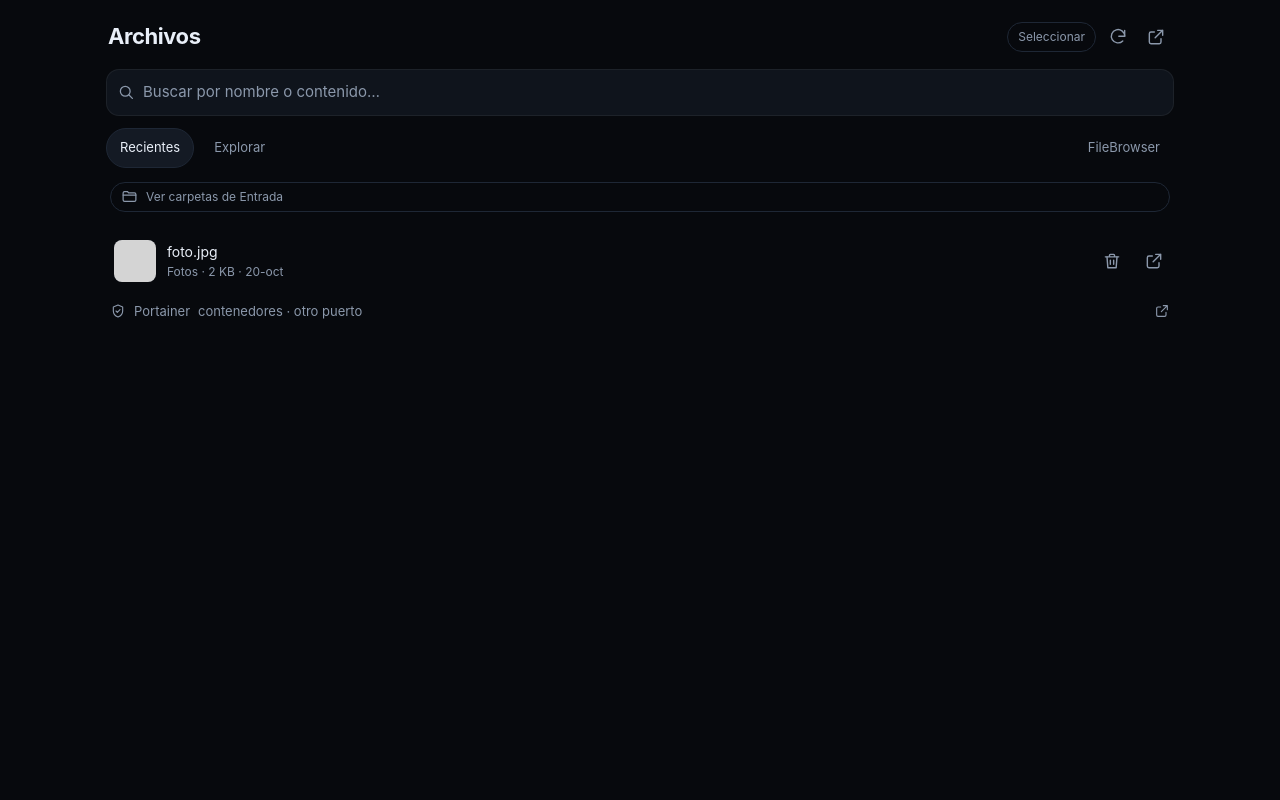
Test: Files · panel NAS nativo › borra desde el visor y lo cierra
Expected: the text "foto.jpg" is shown, [167,242,218,260]
Click the button "foto.jpg Fotos · 2 KB · 20-oct": (135, 260) [106,234,1090,288]
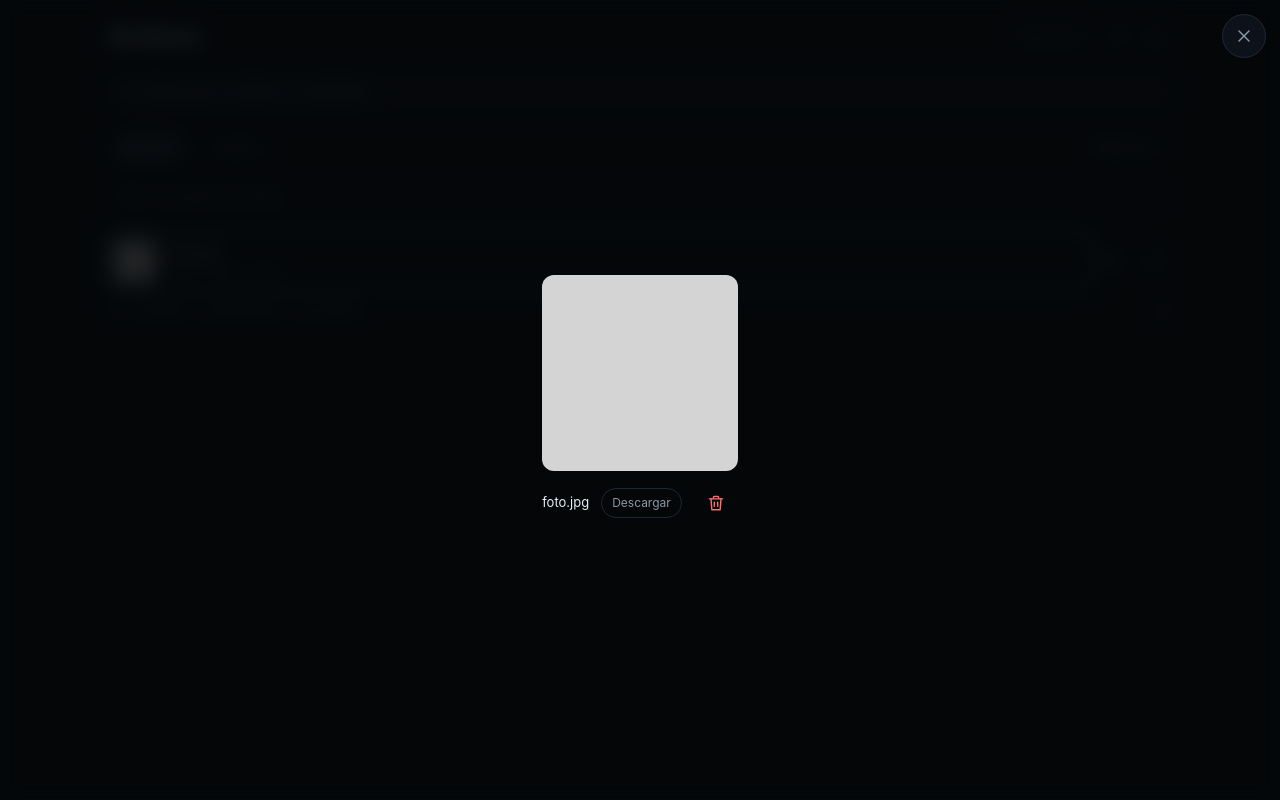
Click the button named "Borrar foto.jpg": (716, 503) [694,481,738,525]
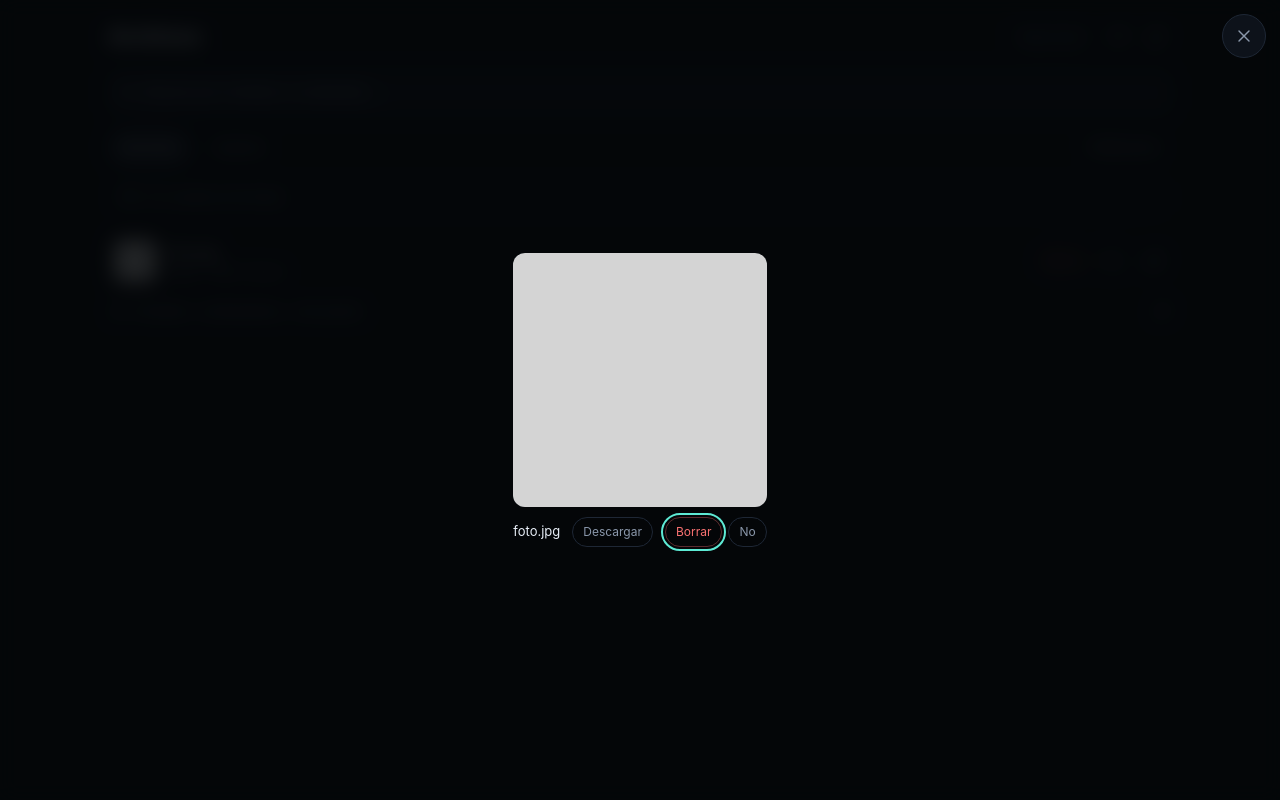
Click the button "Borrar": (694, 532) [665,517,722,547]
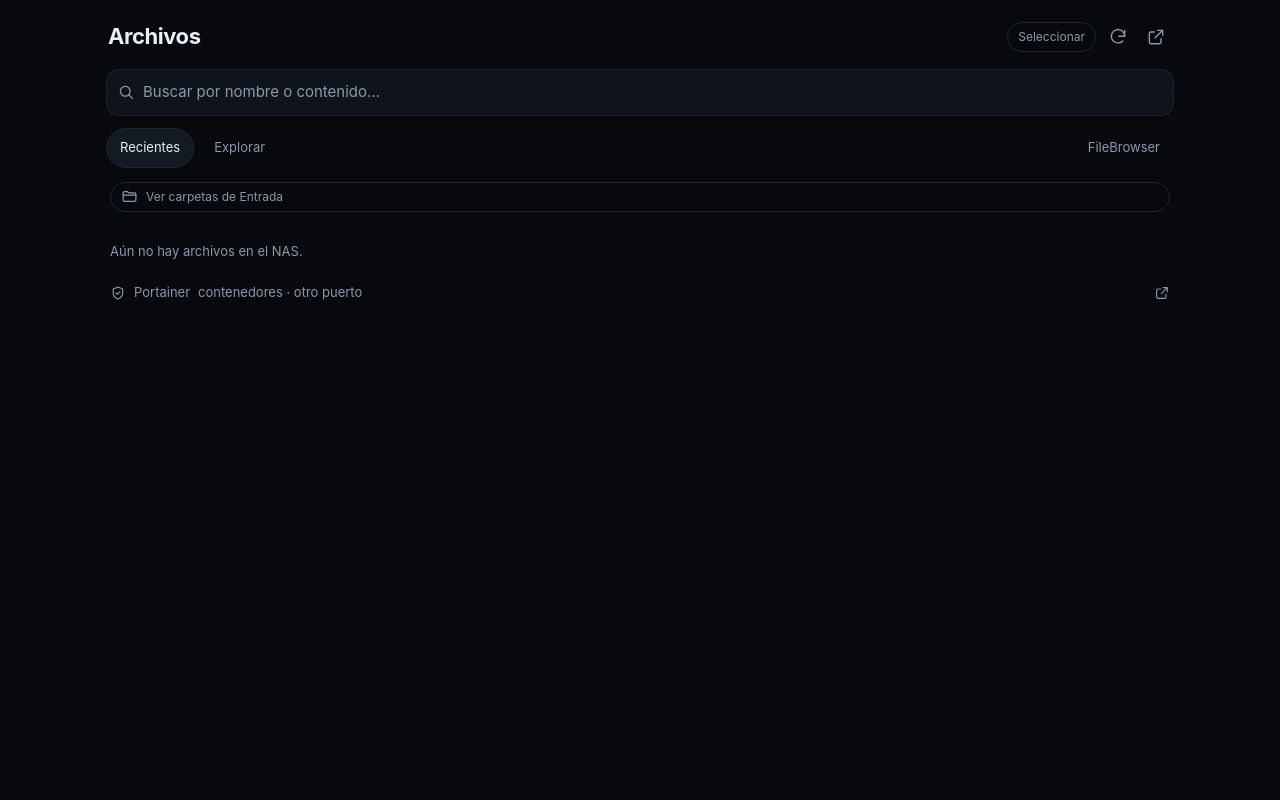
Now the dialog is gone
